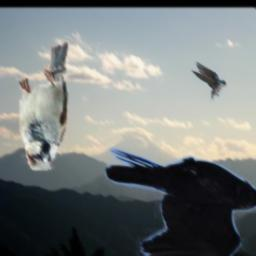Crow: (105, 148, 256, 256)
Sparrow: (21, 43, 69, 171)
Swallow: (191, 61, 226, 102)
